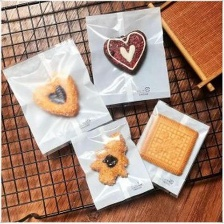snack: (0, 31, 117, 159), (81, 2, 175, 110), (121, 96, 215, 201), (66, 113, 158, 214)
